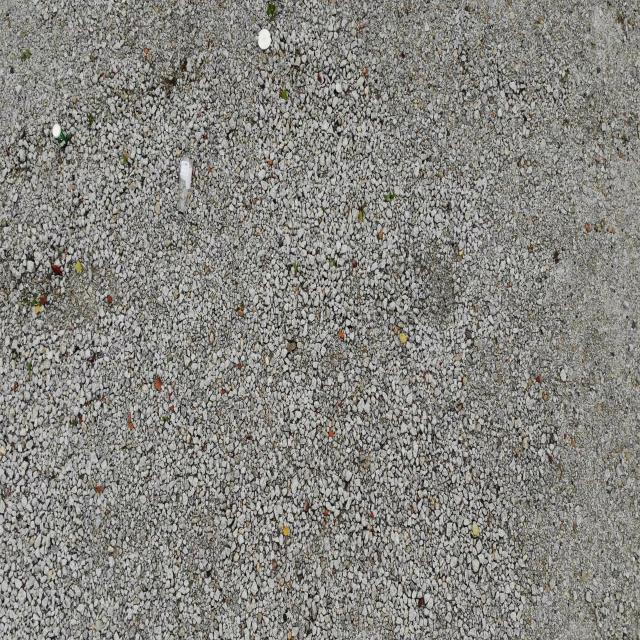rubbish: (177, 155, 196, 217), (52, 120, 71, 154)
